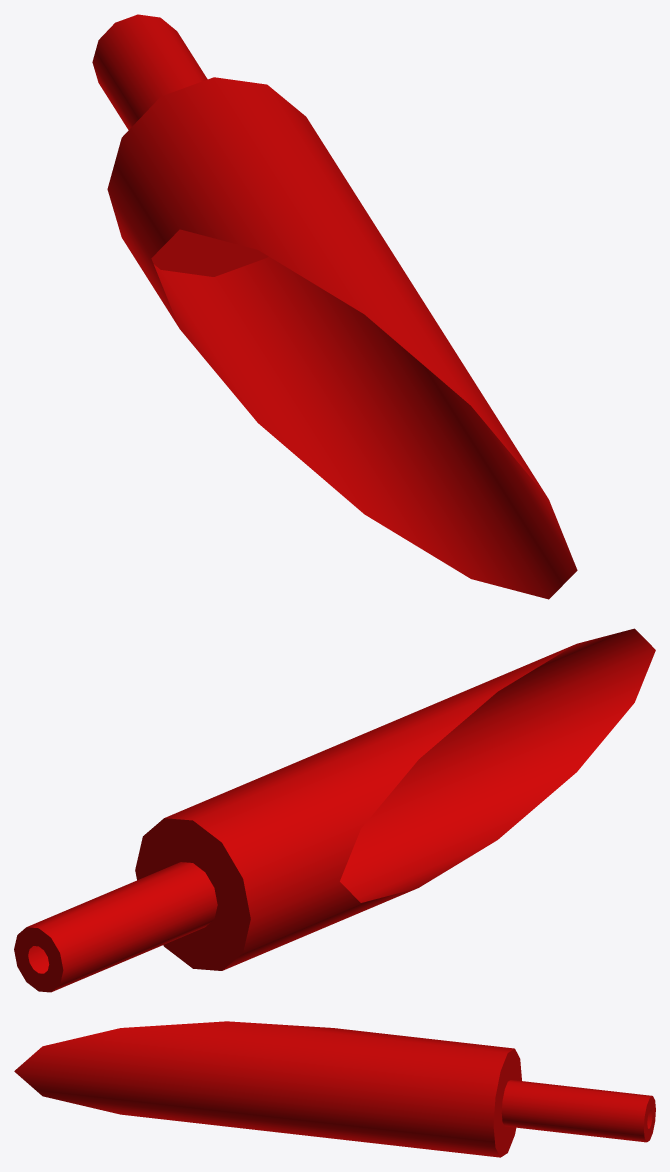
The model's file is original-25.obj.
3 views of the same model, one above another, from view 1: azimuth 30°, elevation 25°; view 2: azimuth 150°, elevation 25°; view 3: azimuth 270°, elevation 25° (orthographic). The views are drawn at different scales.
Parts seen in each view (by area): view 1: Kreg_Pocket_Hole_3_4_9/Kreg_Pocket_Hole_3_4/mesh13/mesh13-geomet; view 2: Kreg_Pocket_Hole_3_4_9/Kreg_Pocket_Hole_3_4/mesh13/mesh13-geomet; view 3: Kreg_Pocket_Hole_3_4_9/Kreg_Pocket_Hole_3_4/mesh13/mesh13-geomet.
Boxes of the visible parts, bbox=[...] form: Kreg_Pocket_Hole_3_4_9/Kreg_Pocket_Hole_3_4/mesh13/mesh13-geomet: bbox=[92, 14, 577, 599]; Kreg_Pocket_Hole_3_4_9/Kreg_Pocket_Hole_3_4/mesh13/mesh13-geomet: bbox=[14, 628, 655, 992]; Kreg_Pocket_Hole_3_4_9/Kreg_Pocket_Hole_3_4/mesh13/mesh13-geomet: bbox=[14, 1021, 655, 1157].
Bounding box in the file's own units: 0.0158 × 0.0128 × 0.0746.
